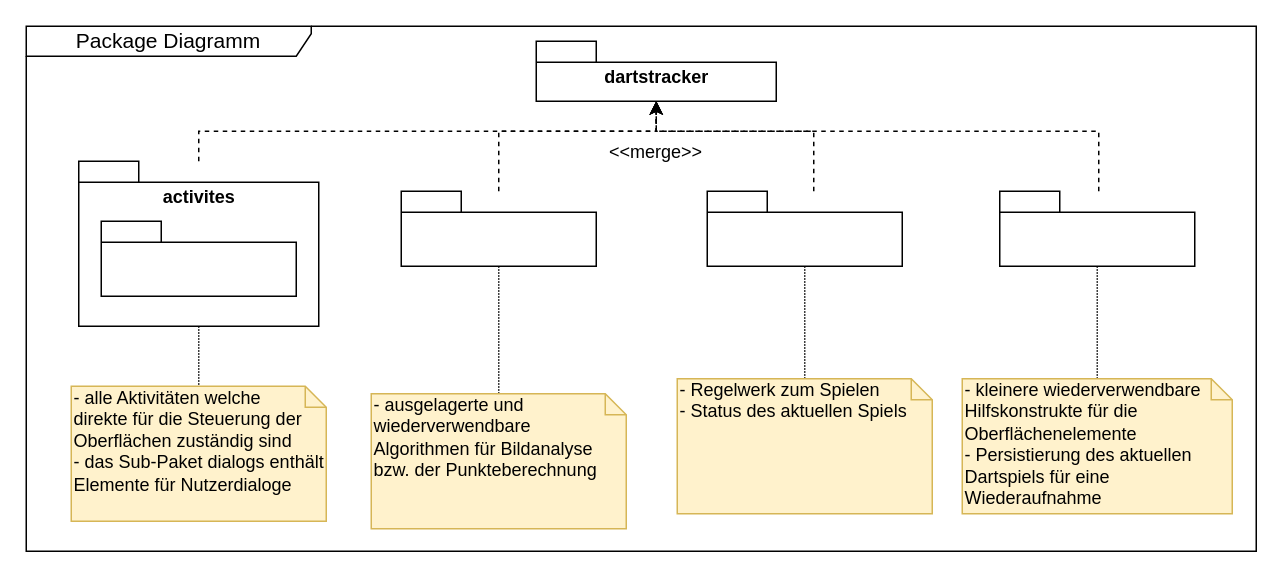
This 1283x578 diagram has some shape labels left out. Each missing label, with the centre of its shape:
"dartdame" belongs at [804,228].
"dialogs" belongs at [198,258].
"imagerecognition" belongs at [498,228].
"utils" belongs at [1096,228].
